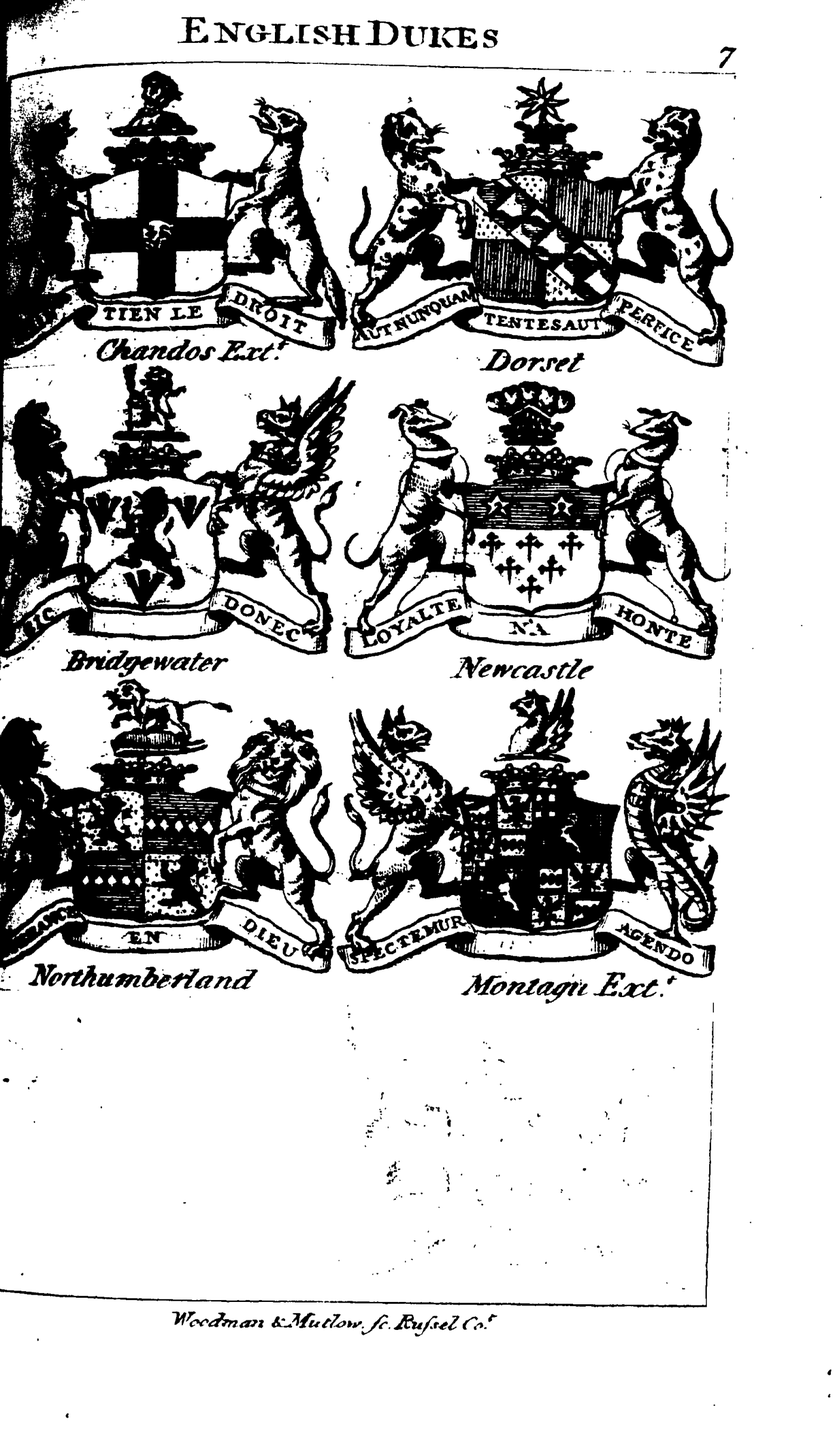coat_of_arms: (342, 689, 718, 1011), (347, 68, 727, 379), (348, 381, 724, 690), (12, 689, 341, 1011), (11, 369, 341, 687), (10, 74, 338, 372)
